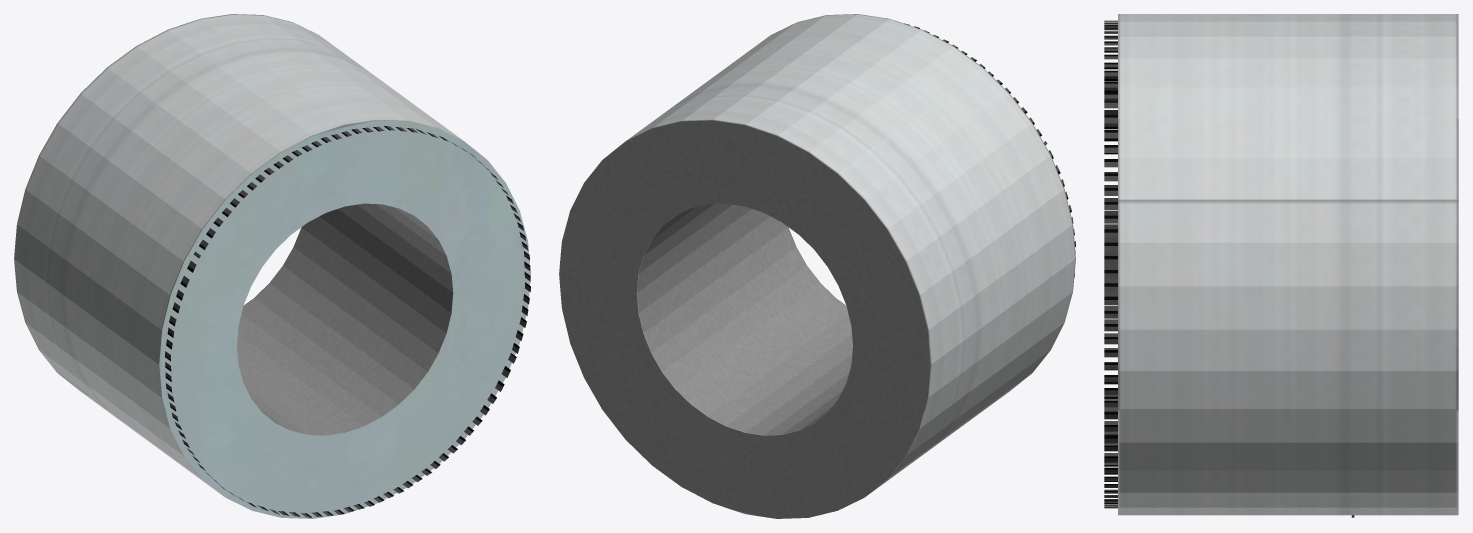
Rendered from dkq-11m00000000604084-geode.glb.
3 views of the same model, side by side, from view 1: azimuth 30°, elevation 25°; view 2: azimuth 150°, elevation 25°; view 3: azimuth 270°, elevation 25° (orthographic). The views are drawn at different scales.
Visible parts, largest first — view 1: Node; view 2: Node; view 3: Node.
Part boxes in pixels (bbox=[...]): Node: bbox=[14, 14, 530, 518]; Node: bbox=[559, 14, 1075, 518]; Node: bbox=[1104, 14, 1458, 517].
Size of the model in its own units: 1.92 by 1.94 by 1.35.
3 materials, 3 textured.
